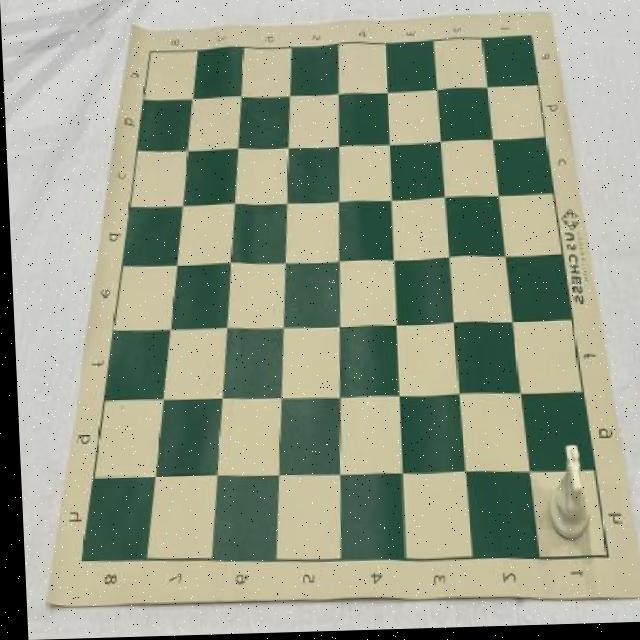white-king: (540, 448, 586, 546)
